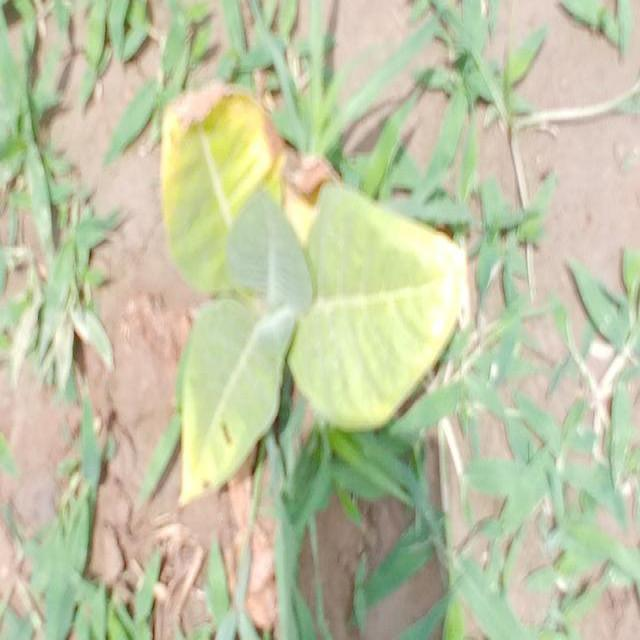crop: (166, 95, 470, 489)
